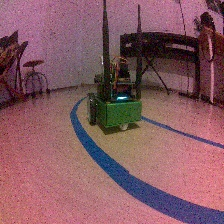rob: (84, 60, 142, 131)
